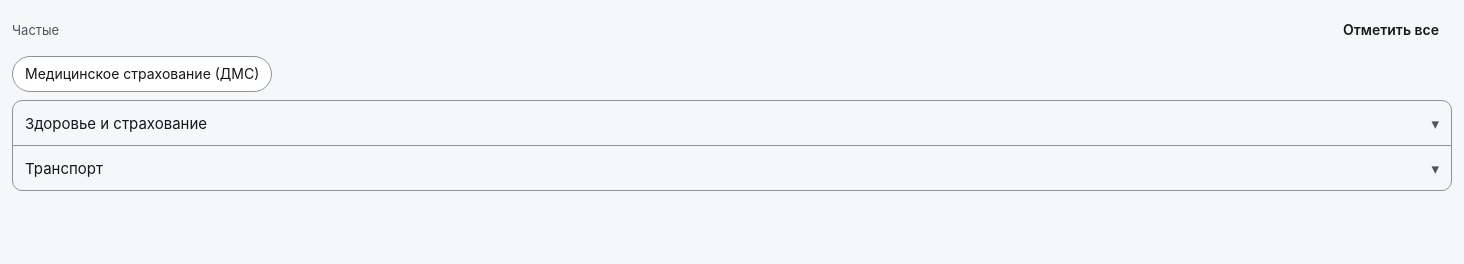
Test: раздел раскрывается заголовком, частая льгота в нём не повторяется
Click the button "Здоровье и страхование ▾". click: [116, 123]
box: [25,101,1439,145]
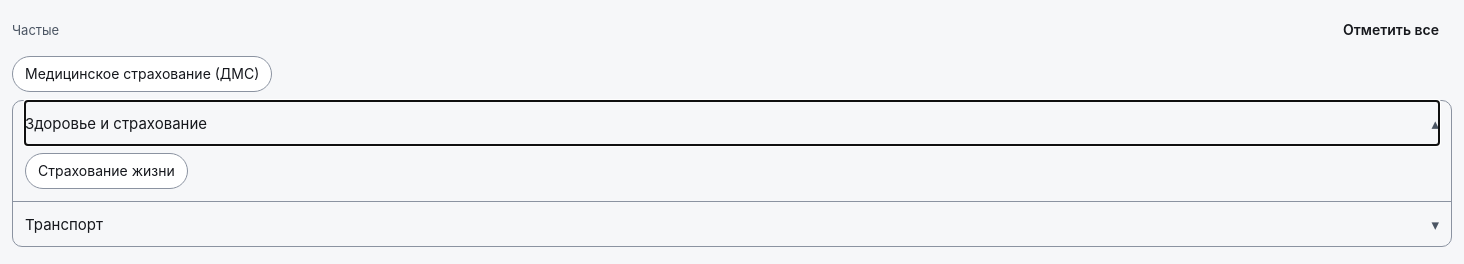
Expected: the button "Страхование жизни" is shown, [25,153,188,189]
Expected: the number of buttons "Медицинское страхование (ДМС)" is 1, [12,56,272,92]
